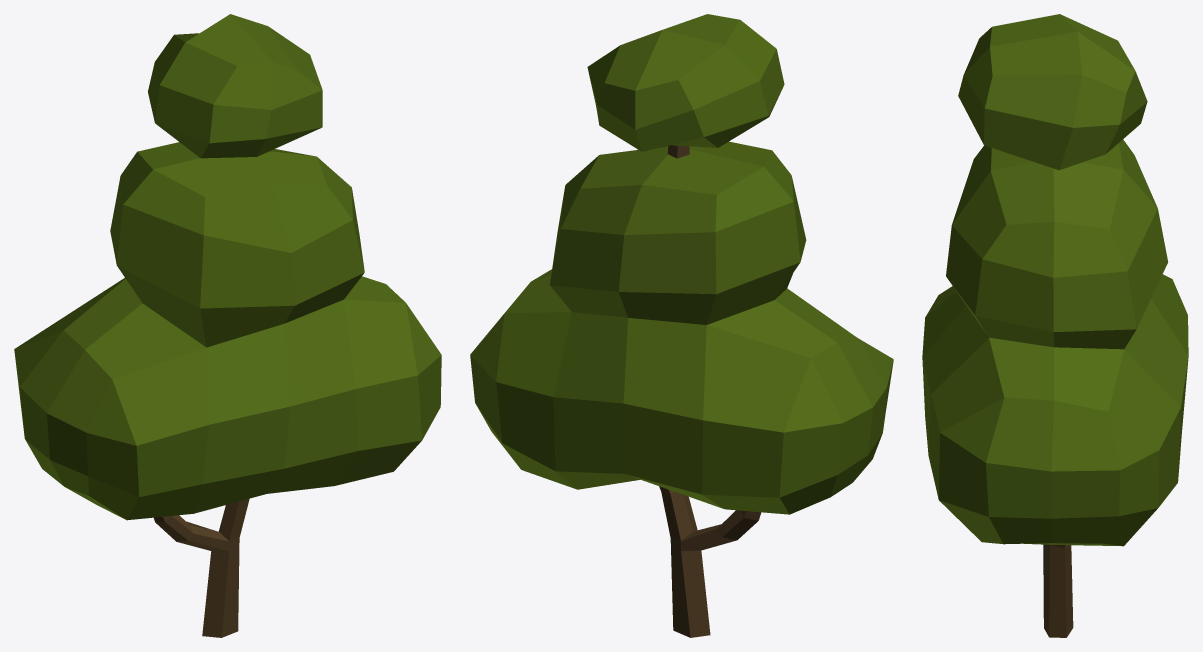
The model's file is TreesAndBushes_063.fbx.
The picture shows the model from 3 angles, left to right: view 1: azimuth 30°, elevation 25°; view 2: azimuth 150°, elevation 25°; view 3: azimuth 270°, elevation 25°; orthographic projection.
Parts seen in each view (by area): view 1: TreesAndBushes_063; view 2: TreesAndBushes_063; view 3: TreesAndBushes_063.
Part boxes in pixels (x1=…): TreesAndBushes_063: x1=14, y1=14, x2=441, y2=637; TreesAndBushes_063: x1=470, y1=14, x2=893, y2=637; TreesAndBushes_063: x1=922, y1=14, x2=1188, y2=637.
Size of the model in its own units: 96.56 by 150 by 59.3.
